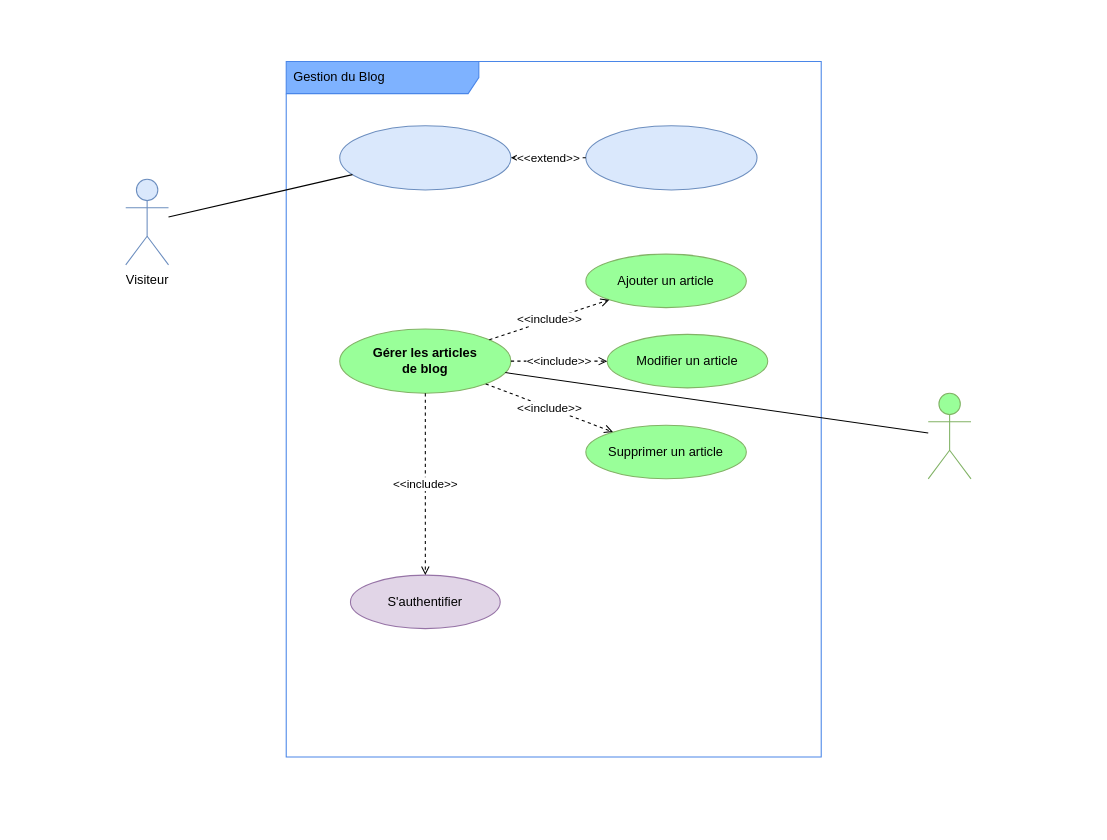
Some shapes in this 1107 by 840 pixel diagram are drawn without their labels. Here are the shapes that lost their labels. From the top down, the centre of each, then its label:
(425,157): Consulter les articles
(671,157): Rechercher / Filtrer
(949,435): Administrateur
